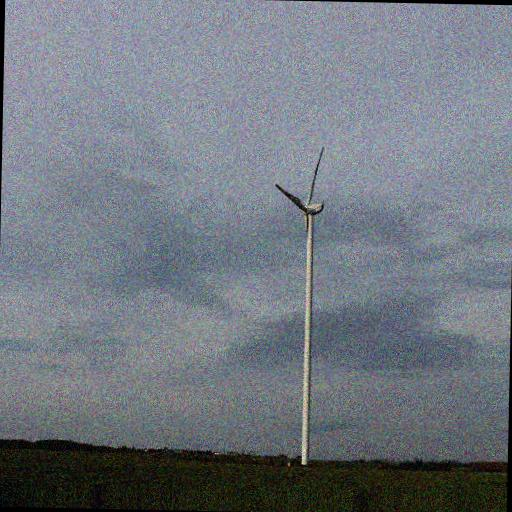wind turbine: (276, 147, 325, 473)
